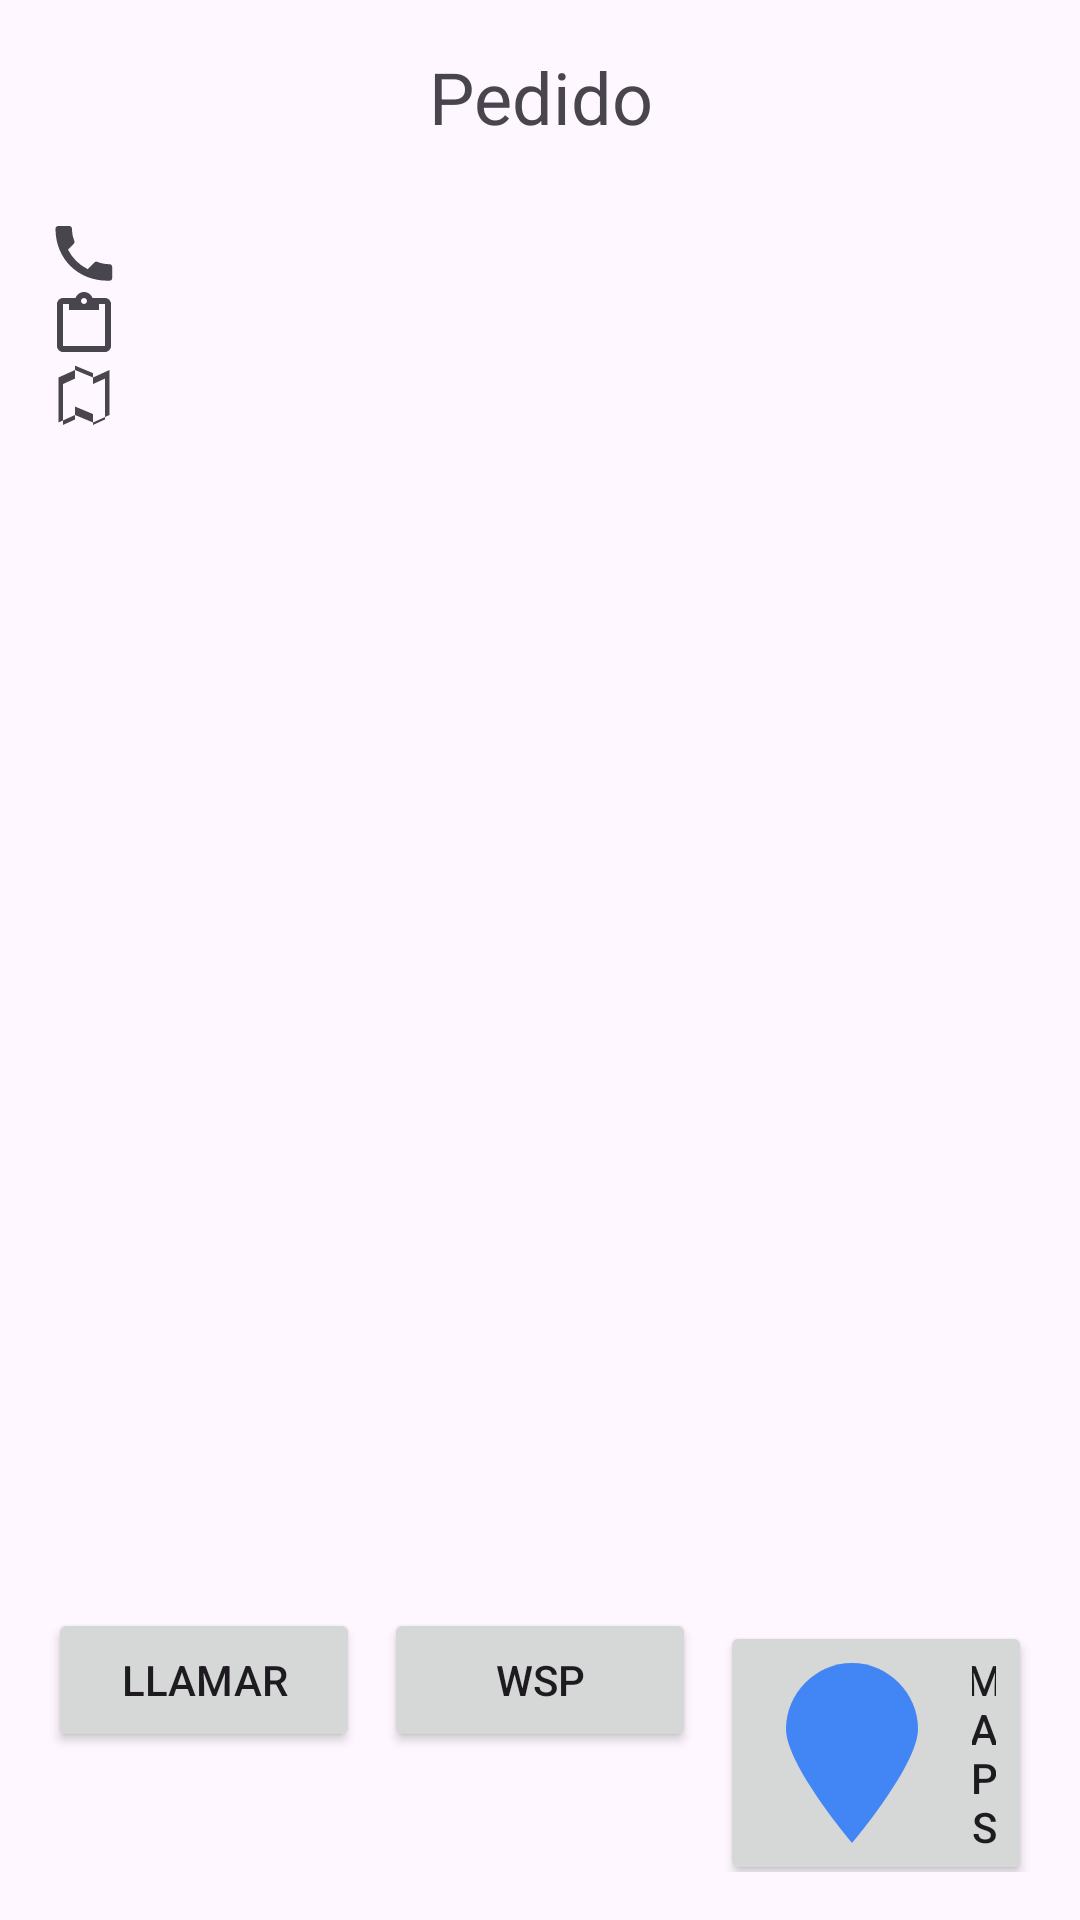

Point at icon controls on the screen. Image size 1080px×1920px, points as point (x, y).
Icono Número Cliente: point (84, 253)
Icono Productos: point (84, 322)
Icono Ubicación: point (84, 395)
